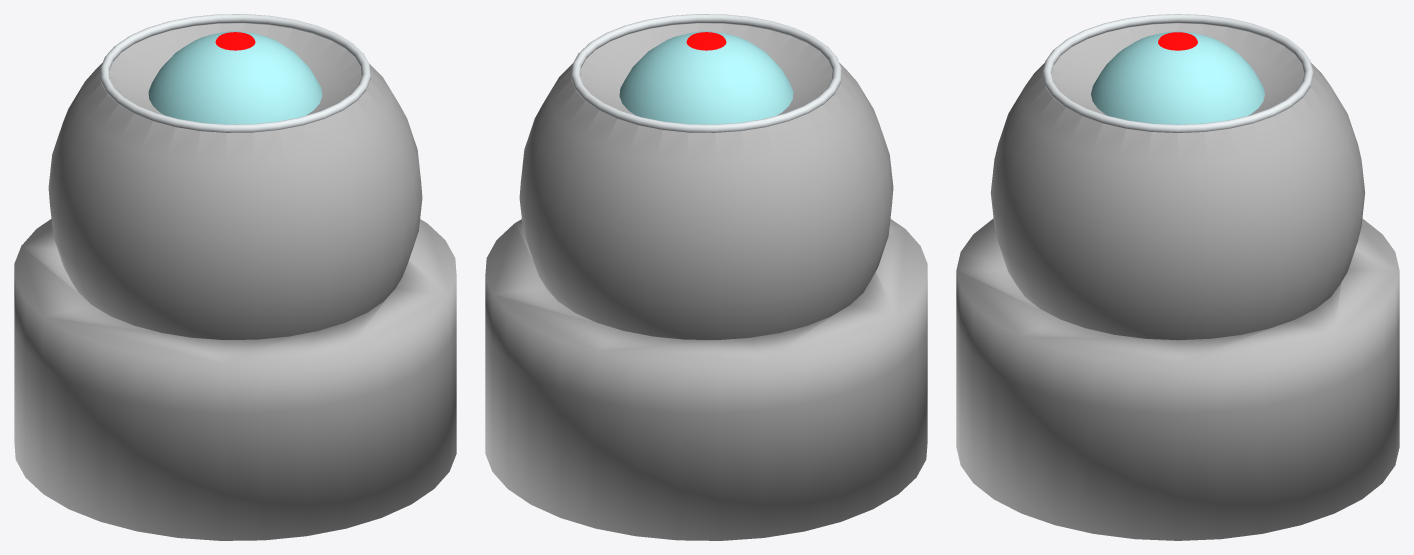
File: laser.fbx
The picture shows the model from 3 angles, left to right: view 1: azimuth 30°, elevation 25°; view 2: azimuth 150°, elevation 25°; view 3: azimuth 270°, elevation 25°; orthographic projection.
Parts seen in each view (by area): view 1: Cylinder001, Sphere001, Sphere003, Torus001, Cone001; view 2: Cylinder001, Sphere001, Sphere003, Torus001, Cone001; view 3: Cylinder001, Sphere001, Sphere003, Torus001, Cone001.
Boxes of the visible parts, x1,y1,x2,y2 form: Cylinder001: (14,219,456,540); Sphere001: (48,23,422,339); Sphere003: (148,31,322,124); Torus001: (100,14,370,132); Cone001: (215,32,255,50); Cylinder001: (485,219,927,540); Sphere001: (519,23,893,339); Sphere003: (619,31,793,124); Torus001: (571,14,841,132); Cone001: (686,32,726,50); Cylinder001: (956,218,1399,540); Sphere001: (990,23,1365,340); Sphere003: (1091,31,1264,124); Torus001: (1042,14,1313,132); Cone001: (1158,32,1197,50).
Size of the model in its own units: 23.67 by 24 by 23.67.
